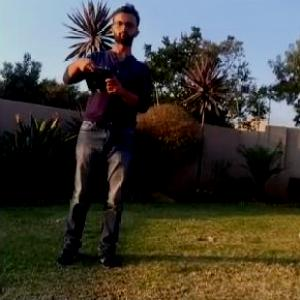follow: (53, 0, 156, 272)
